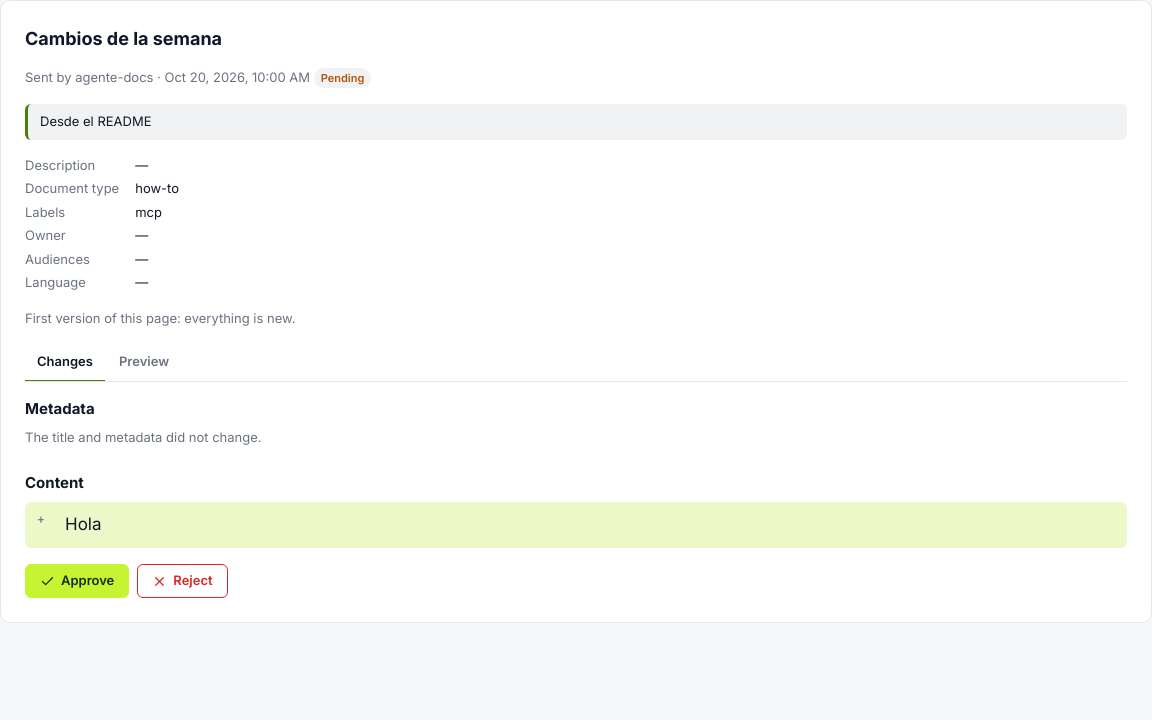
Test: SubmissionReview › asks for a comment to reject and shows the problem
Click the button "Reject": (182, 581) [137,564,228,598]
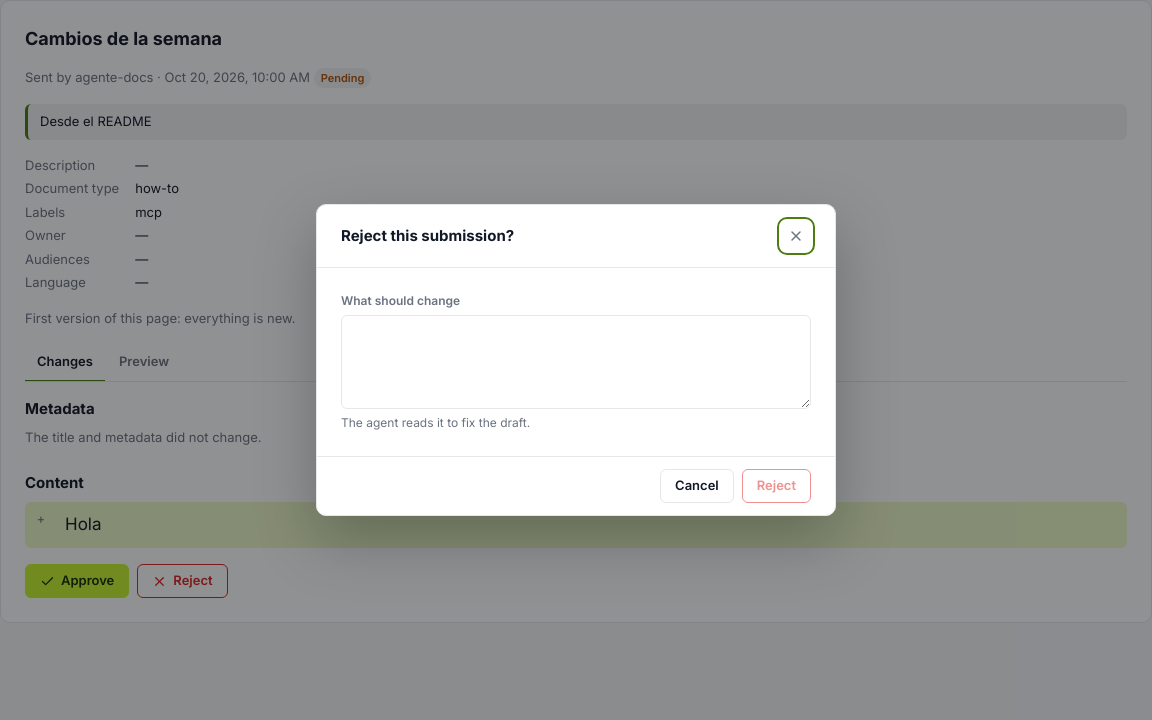
Result: the button "Reject" is disabled at [742,469,811,503]
In the text box: (576, 362) [341,315,811,409], type "Falta el diagrama."
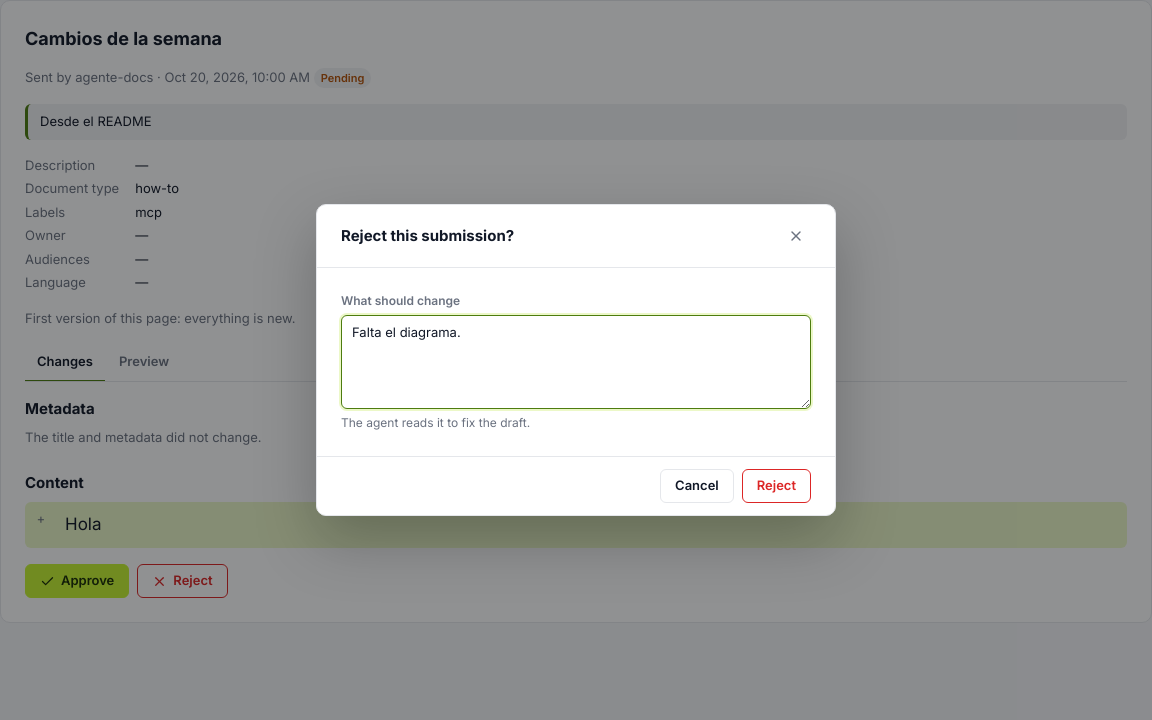
Click the button "Reject": (776, 486) [742,469,811,503]
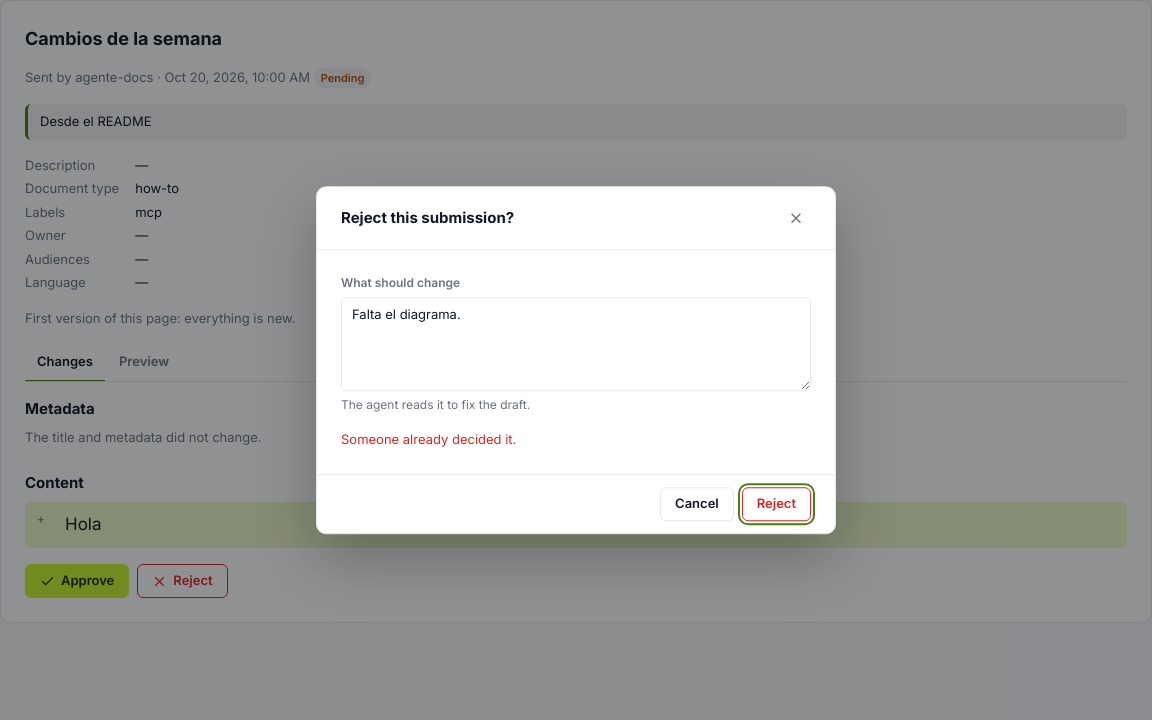
Result: the message shows "already decided" at [341,431,516,447]
